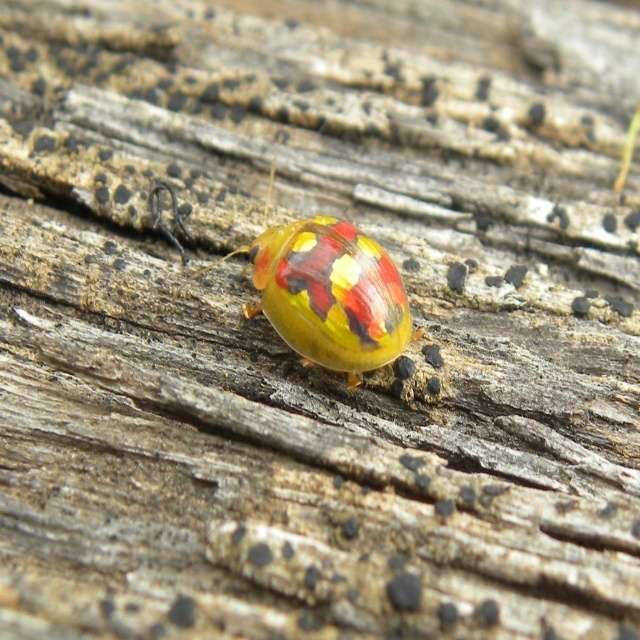Ladybug: (169, 169, 415, 394)
